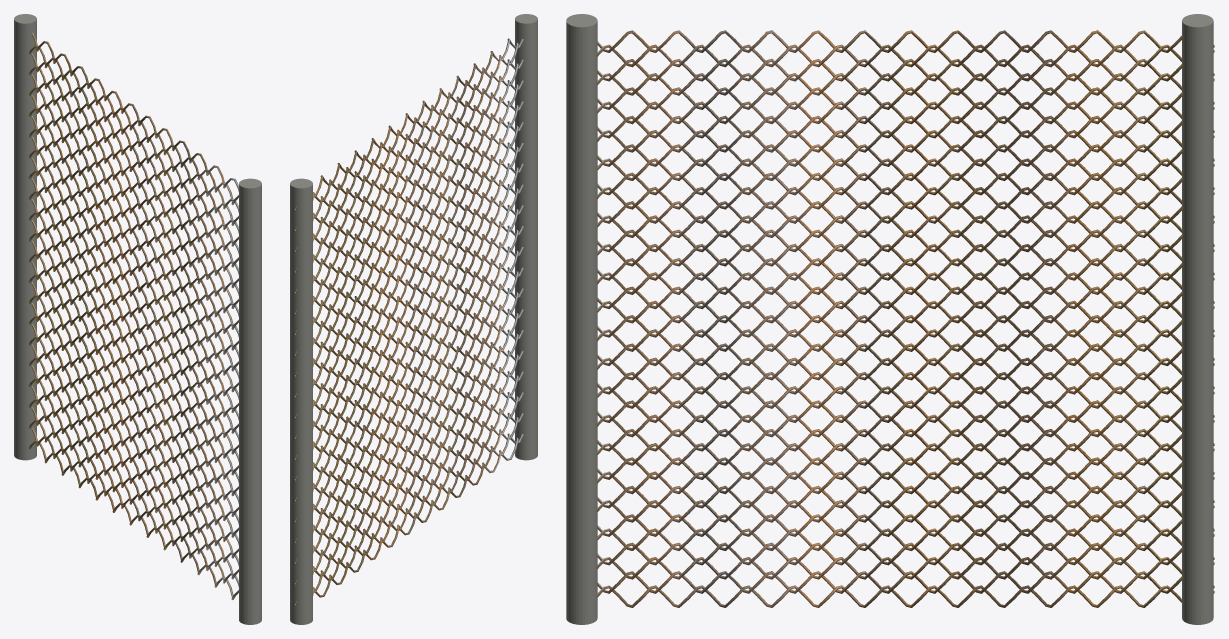
File: Fence.fbx
3 views of the same model, side by side, from view 1: azimuth 30°, elevation 25°; view 2: azimuth 150°, elevation 25°; view 3: azimuth 270°, elevation 25° (orthographic). The views are drawn at different scales.
Visible parts, largest first — view 1: fence; view 2: fence; view 3: fence.
Boxes of the visible parts, x1,y1,x2,y2 form: fence: (14,14,261,624); fence: (290,14,537,624); fence: (566,14,1214,624).
Size of the model in its own units: 10 by 210 by 207.
